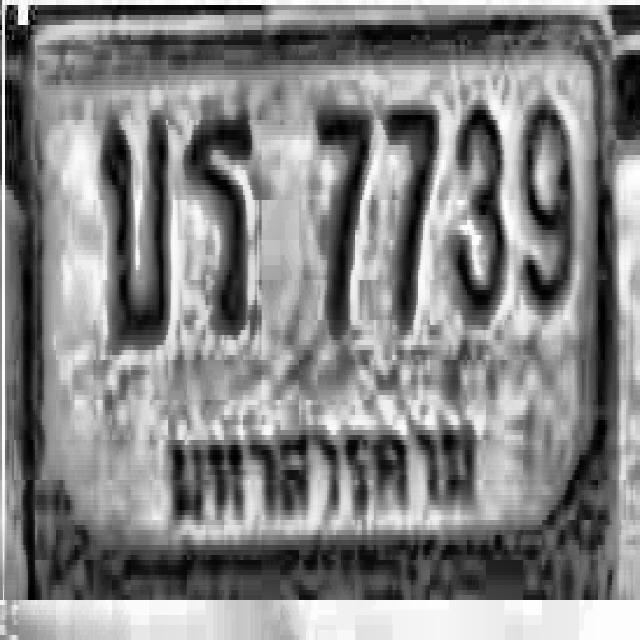license-plate: (27, 12, 621, 596)
